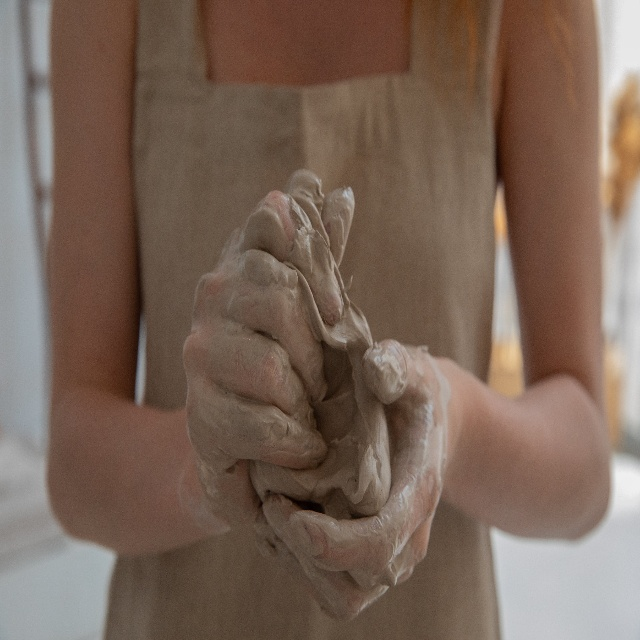Sin_guantes: (183, 185, 355, 529), (249, 338, 448, 624)
